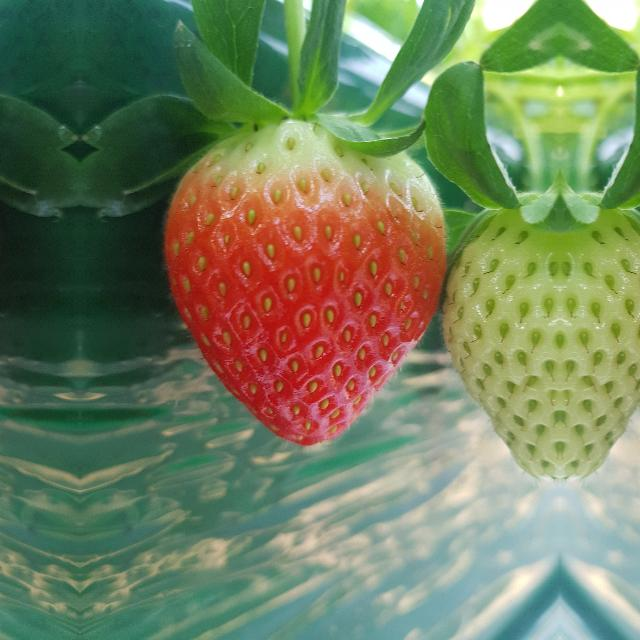Health_75: (163, 118, 447, 446)
